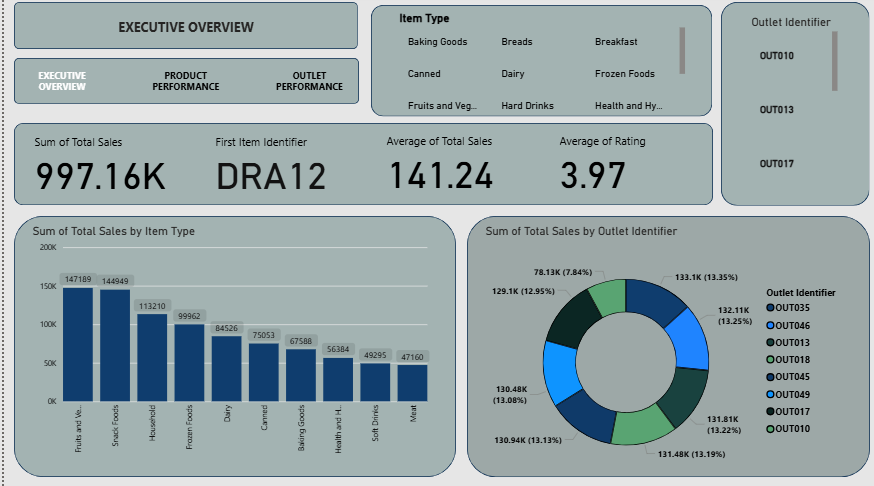

This screenshot's page, from the dashboard's own definition file:
{"tool":"powerbi","page":{"name":"EXECUTIVE OVERVIEW","canvas":[1280,720],"ordinal":0},"visuals":[{"type":"shape","box":[14.6,10.2,503.4,68.8],"z":0},{"type":"cardVisual","fields":{"Data":["Sum(smart_bazaar.Total Sales)"]},"box":[27.4,187.4,234.1,121.5],"z":0,"group":"g1"},{"type":"shape","box":[1049.4,9.9,217.5,298.2],"z":1000},{"type":"cardVisual","fields":{"Data":["Avg(smart_bazaar.Total Sales)"]},"box":[542.5,186.2,218,122.1],"z":1000,"group":"g1"},{"type":"shape","box":[14.6,92.2,504.9,67.3],"z":2000},{"type":"cardVisual","fields":{"Data":["Avg(smart_bazaar.Rating)"]},"box":[796.1,186.2,221.7,122.1],"z":2000,"group":"g1"},{"type":"cardVisual","fields":{"Data":["Min(smart_bazaar.Item Identifier)"]},"box":[291.7,187.4,232.7,121.5],"z":3000,"group":"g1"},{"type":"shape","box":[677.1,322.9,589.8,382.2],"z":3000},{"type":"shape","box":[537,14.8,499.2,163.1],"z":4000},{"type":"shape","box":[14.6,323.4,646.8,382],"z":5000},{"type":"shape","box":[14.8,187.8,1023,120.3],"z":6000},{"type":"clusteredColumnChartByAkvelonBE487DE8B8674A59A098B9B16C950BA","fields":{"Axis":["smart_bazaar.Item Type"],"Value":["Sum(smart_bazaar.Total Sales)"]},"box":[36.6,335.1,602.9,349.8],"z":7000},{"type":"donutChart","title":"Sum of Total Sales by Outlet Identifier ","fields":{"Category":["smart_bazaar.Outlet Identifier"],"Y":["Sum(smart_bazaar.Total Sales)"]},"box":[700.1,334.4,545.3,385.5],"z":8000},{"type":"pageNavigator","box":[14.8,89,504.1,72.5],"z":9000},{"type":"group","id":"g1","title":"Group 1","box":[27.4,186.2,990.4,122.7],"z":10000},{"type":"advancedSlicerVisual","fields":{"Values":["smart_bazaar.Item Type"]},"box":[573.3,23.1,428.3,163.1],"z":11000},{"type":"advancedSlicerVisual","fields":{"Values":["smart_bazaar.Outlet Identifier"]},"box":[1088.9,29.7,136.7,260.3],"z":12000},{"type":"textbox","box":[80.5,29.3,371.7,49.8],"z":13000}]}

Visuals, with their boxes in screenshot pixels (x1, y1, x2, y2), scaled from the page's 1280x720 canvas onto the 874x486 screenshot:
shape: crop(10, 7, 354, 53)
cardVisual - Sum(smart_bazaar.Total Sales): crop(19, 126, 179, 209)
shape: crop(717, 7, 865, 208)
cardVisual - Avg(smart_bazaar.Total Sales): crop(370, 126, 519, 208)
shape: crop(10, 62, 355, 108)
cardVisual - Avg(smart_bazaar.Rating): crop(544, 126, 695, 208)
cardVisual - Min(smart_bazaar.Item Identifier): crop(199, 126, 358, 209)
shape: crop(462, 218, 865, 476)
shape: crop(367, 10, 708, 120)
shape: crop(10, 218, 452, 476)
shape: crop(10, 127, 709, 208)
clusteredColumnChartByAkvelonBE487DE8B8674A59A098B9B16C950BA - smart_bazaar.Item Type x Sum(smart_bazaar.Total Sales): crop(25, 226, 437, 462)
"Sum of Total Sales by Outlet Identifier " donutChart: crop(478, 226, 850, 485)
pageNavigator: crop(10, 60, 354, 109)
"Group 1" group: crop(19, 126, 695, 209)
advancedSlicerVisual - smart_bazaar.Item Type: crop(391, 16, 684, 126)
advancedSlicerVisual - smart_bazaar.Outlet Identifier: crop(744, 20, 837, 196)
textbox: crop(55, 20, 309, 53)
